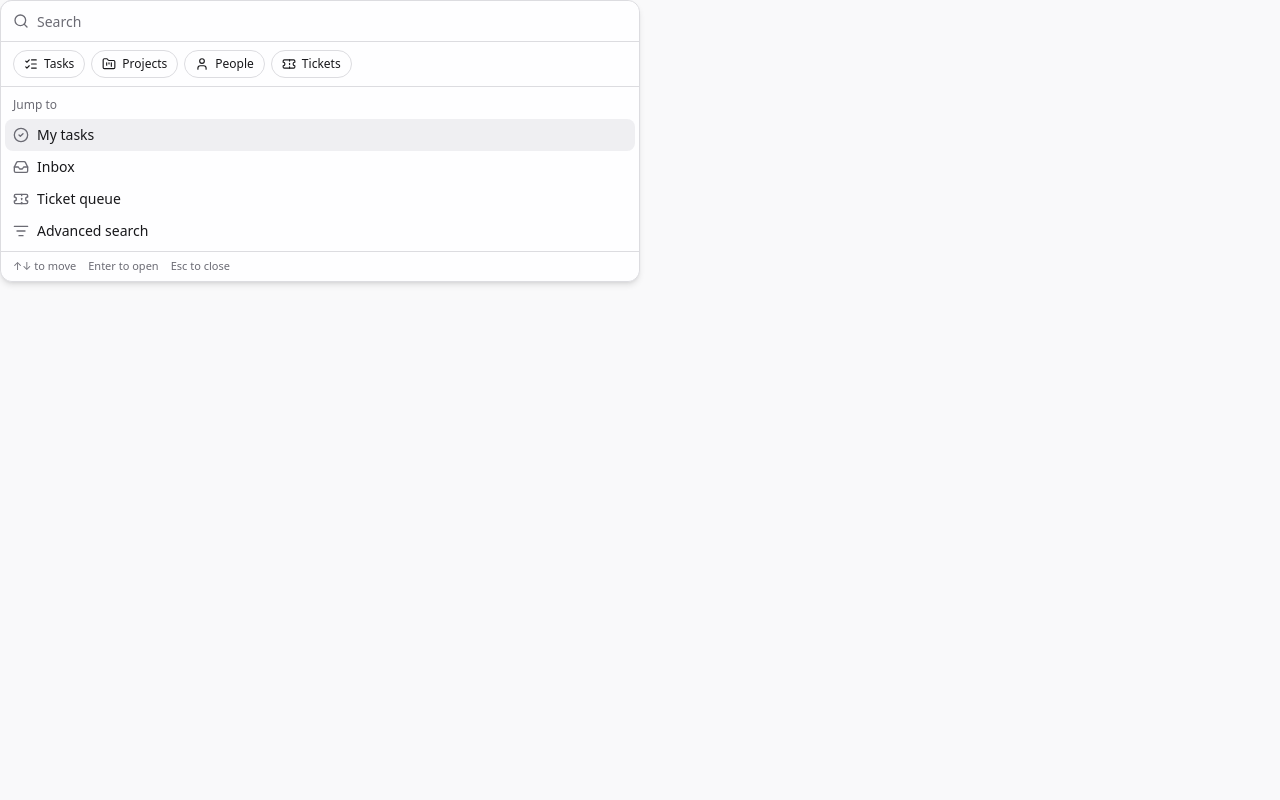
Test: GlobalSearch › shows each kind of result under its own heading
Type "launch" into the dropdown named "Search the workspace" at (332, 21), box [37,1,627,41]
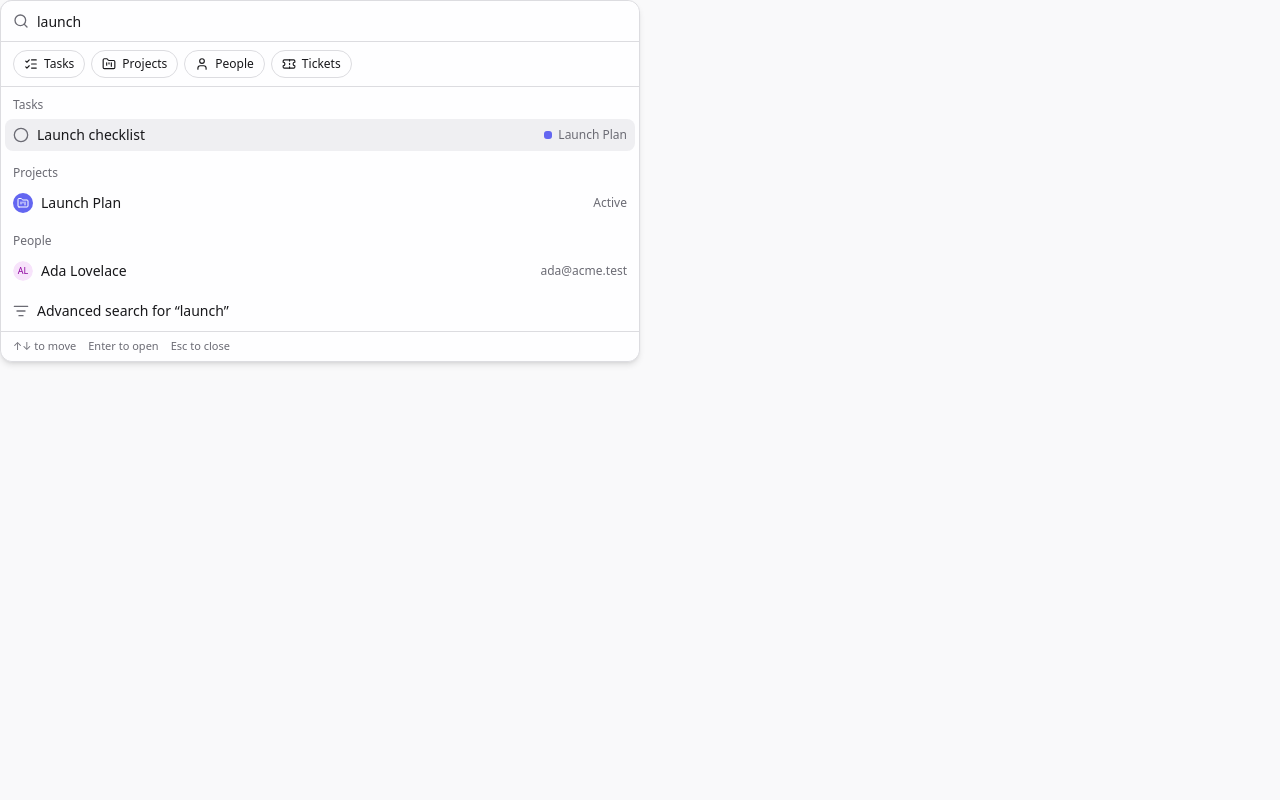
Check: the text "Launch checklist" is shown, box [37,125,145,144]
Check: the text "Ada Lovelace" is shown, box [41,261,127,280]
